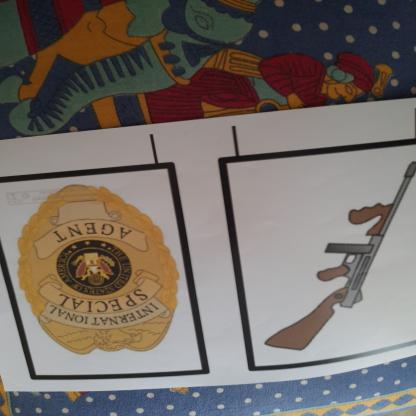Bootlegger: (262, 157, 416, 362)
G-man: (6, 184, 201, 367)
